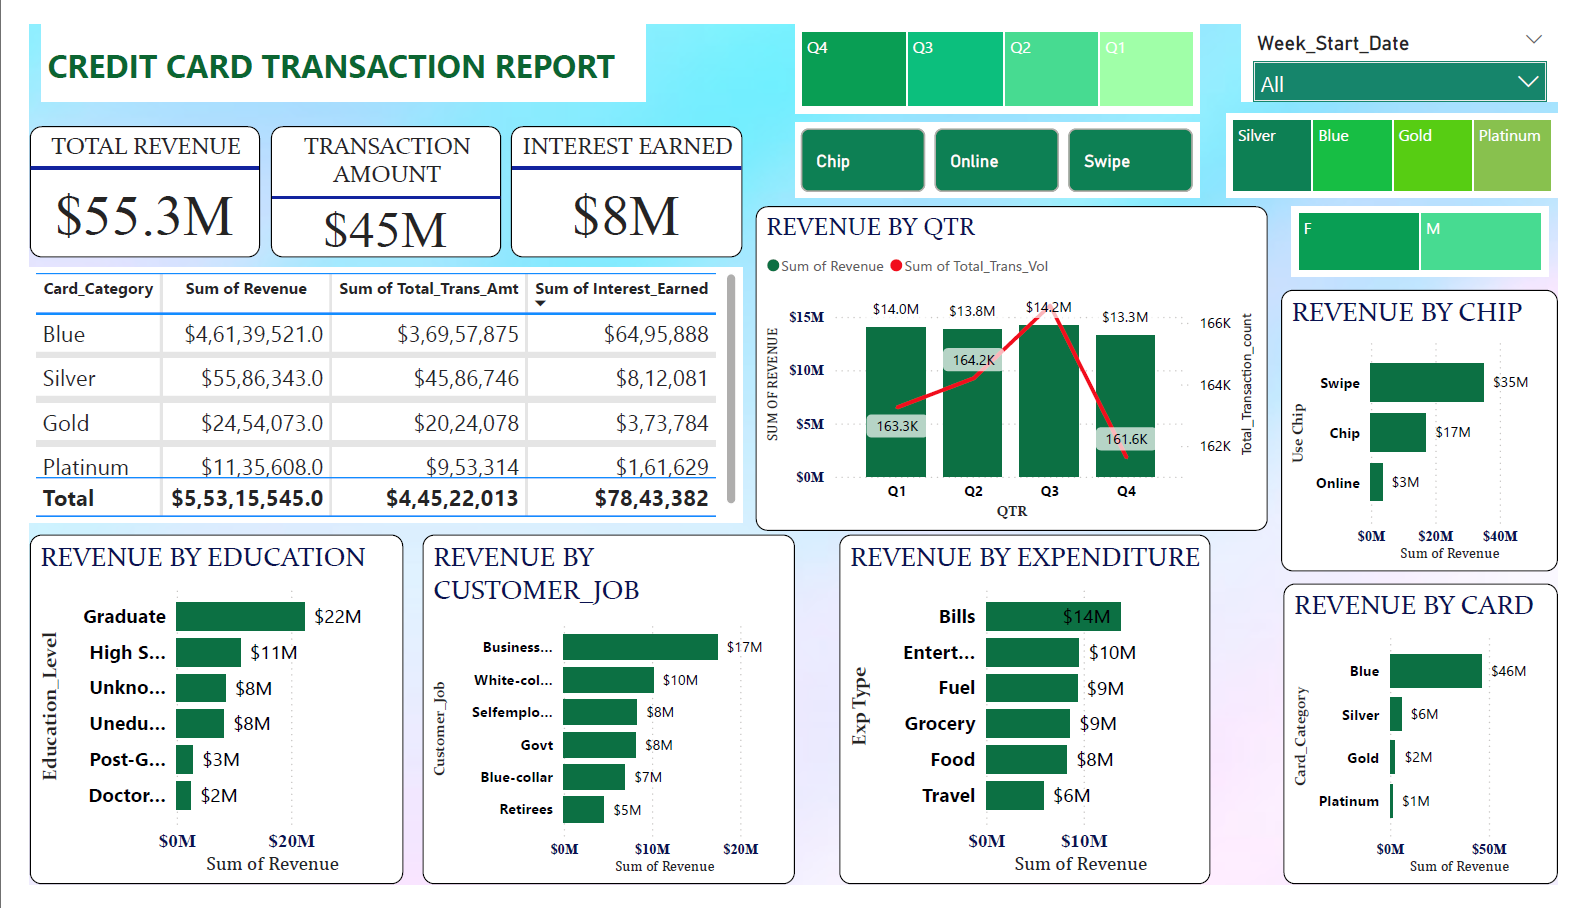

The dashboard page shown, as its layout file describes it:
{"tool":"powerbi","page":{"name":"cc_transaction","canvas":[1280,720],"ordinal":1},"visuals":[{"type":"textbox","box":[9.6,0,506.3,64.5],"z":0},{"type":"lineClusteredColumnComboChart","title":"REVENUE BY QTR","fields":{"Category":["Credit_Card.Qtr"],"Y":["Sum(Credit_Card.Revenue)"],"Y2":["Sum(Credit_Card.Total_Trans_Vol)"]},"box":[607.9,152.3,429.5,271.7],"z":1000},{"type":"barChart","title":"REVENUE BY EXPENDITURE","fields":{"Y":["Sum(Credit_Card.Revenue)"],"Category":["Credit_Card.Exp Type"]},"box":[677.9,426.8,311.5,293.7],"z":2000},{"type":"barChart","title":"REVENUE BY CUSTOMER_JOB","fields":{"Y":["Sum(Credit_Card.Revenue)"],"Category":["Customer.Customer_Job"]},"box":[329.3,426.8,312,293.7],"z":3000},{"type":"barChart","title":"REVENUE BY EDUCATION","fields":{"Y":["Sum(Credit_Card.Revenue)"],"Category":["Customer.Education_Level"]},"box":[0,426.8,312.9,293.7],"z":4000},{"type":"barChart","title":"REVENUE BY CARD","fields":{"Y":["Sum(Credit_Card.Revenue)"],"Category":["Credit_Card.Card_Category"]},"box":[1049.7,467.9,230.5,252.5],"z":5000},{"type":"barChart","title":"REVENUE BY CHIP","fields":{"Y":["Sum(Credit_Card.Revenue)"],"Category":["Credit_Card.Use Chip"]},"box":[1048.4,222.3,231.9,236],"z":6000},{"type":"tableEx","fields":{"Values":["Credit_Card.Card_Category","Sum(Credit_Card.Revenue)","Sum(Credit_Card.Total_Trans_Amt)","Sum(Credit_Card.Interest_Earned)"]},"box":[0,203.1,596.9,214.1],"z":7000},{"type":"card","title":"TOTAL REVENUE","fields":{"Values":["Sum(Credit_Card.Revenue)"]},"box":[0,85.1,193.5,109.8],"z":8000},{"type":"card","title":"INTEREST EARNED","fields":{"Values":["Sum(Credit_Card.Interest_Earned)"]},"box":[403.4,85.1,193.5,109.8],"z":9000},{"type":"card","title":" TRANSACTION AMOUNT","fields":{"Values":["Sum(Credit_Card.Total_Trans_Amt)"]},"box":[201.7,85.1,193.5,109.8],"z":10000},{"type":"slicer","fields":{"Values":["Credit_Card.Week_Start_Date"]},"box":[1015.4,0,264.8,64.5],"z":11000},{"type":"treemap","title":"FILTER ON CLIENT","fields":{"Group":["Credit_Card.Qtr"],"Values":["Avg(Customer.Client_Num)"]},"box":[640.8,0,338.9,74.1],"z":12000},{"type":"treemap","title":"FILTER ON GENDER","fields":{"Group":["Customer.Gender"],"Values":["Avg(Customer.Client_Num)"]},"box":[1056.6,152.3,215.4,59],"z":13000},{"type":"treemap","title":"FILTER ON CLIENT","fields":{"Group":["Credit_Card.Card_Category"],"Values":["Avg(Customer.Client_Num)"]},"box":[1001.7,74.1,278.6,71.4],"z":14000},{"type":"advancedSlicerVisual","title":"CHIP","fields":{"Values":["Credit_Card.Use Chip"]},"box":[640.8,82.3,338.9,63.1],"z":14001}]}

Visuals, with their boxes in screenshot pixels (x1, y1, x2, y2), scaled from the page's 1280x720 canvas onto the 1583x908 screenshot:
textbox: <bbox>12, 0, 638, 81</bbox>
"REVENUE BY QTR" lineClusteredColumnComboChart: <bbox>752, 192, 1283, 535</bbox>
"REVENUE BY EXPENDITURE" barChart: <bbox>838, 538, 1224, 907</bbox>
"REVENUE BY CUSTOMER_JOB" barChart: <bbox>407, 538, 793, 907</bbox>
"REVENUE BY EDUCATION" barChart: <bbox>0, 538, 387, 907</bbox>
"REVENUE BY CARD" barChart: <bbox>1298, 590, 1582, 907</bbox>
"REVENUE BY CHIP" barChart: <bbox>1297, 280, 1582, 578</bbox>
tableEx - Credit_Card.Card_Category x Sum(Credit_Card.Revenue): <bbox>0, 256, 738, 526</bbox>
"TOTAL REVENUE" card: <bbox>0, 107, 239, 246</bbox>
"INTEREST EARNED" card: <bbox>499, 107, 738, 246</bbox>
" TRANSACTION AMOUNT" card: <bbox>249, 107, 489, 246</bbox>
slicer - Credit_Card.Week_Start_Date: <bbox>1256, 0, 1582, 81</bbox>
"FILTER ON CLIENT" treemap: <bbox>792, 0, 1212, 93</bbox>
"FILTER ON GENDER" treemap: <bbox>1307, 192, 1573, 266</bbox>
"FILTER ON CLIENT" treemap: <bbox>1239, 93, 1582, 183</bbox>
"CHIP" advancedSlicerVisual: <bbox>792, 104, 1212, 183</bbox>
